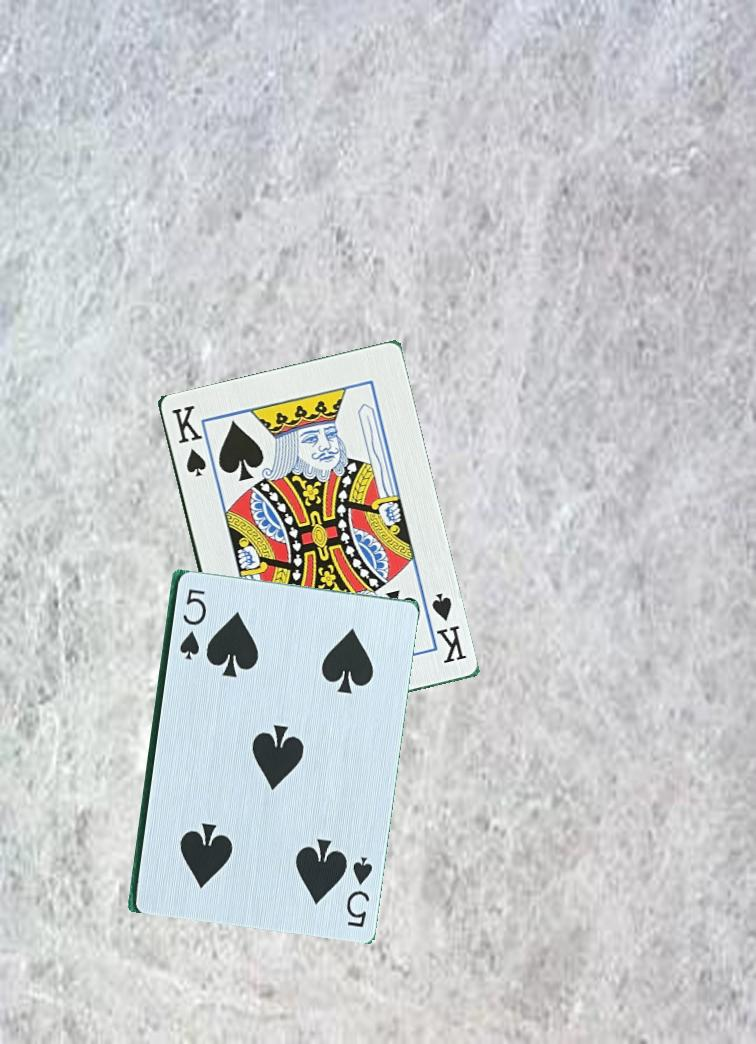5s: (338, 846, 376, 933), (175, 576, 207, 662)
ks: (427, 589, 469, 675), (167, 401, 209, 480)
